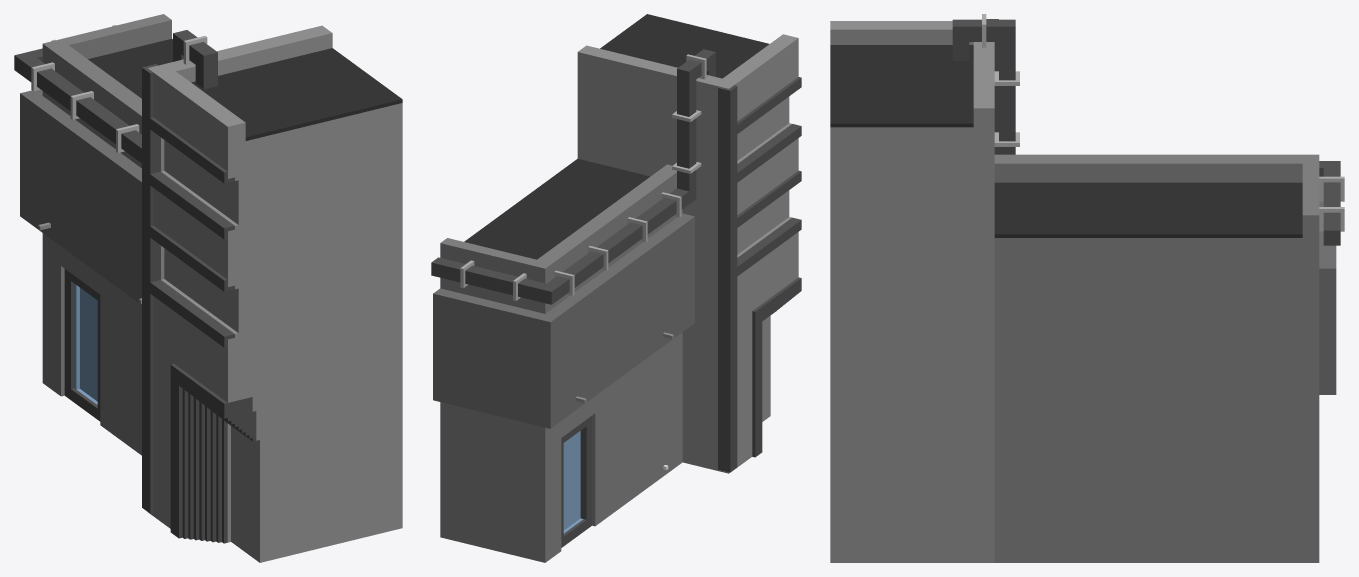
Rendered from casa1.obj.
3 renders of one model, left to right at view 1: azimuth 30°, elevation 25°; view 2: azimuth 150°, elevation 25°; view 3: azimuth 270°, elevation 25°, orthographic. The views are drawn at different scales.
Size of the model in its own units: 50 by 125 by 122.
Materials: 1 (1 with a texture image).
